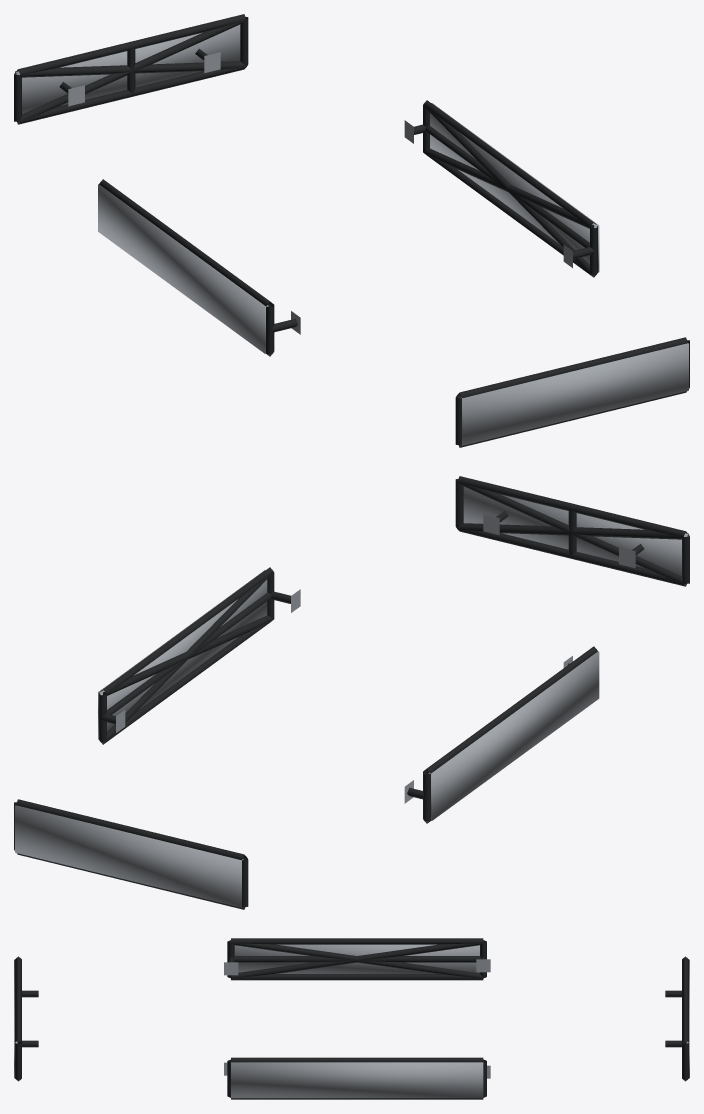
Rendered from rauhe_asfalto_protecao.glb.
The picture shows the model from 3 angles, top to bottom: view 1: azimuth 30°, elevation 25°; view 2: azimuth 150°, elevation 25°; view 3: azimuth 270°, elevation 25°; orthographic projection. The views are drawn at different scales.
Parts seen in each view (by area): view 1: Protection_front_Level3_Details, Protection_left_Level3_Details, Protection_rear_Level1_Details, Protection_rear_Level3_Details, Protection_right_Level1_Details, Protection_right_Level2_Details, Protection_rear_Level2_Details, Protection_right_Level3_Details, Protection_front_Level1_Details, Protection_left_Level1_Details; view 2: Protection_rear_Level3_Details, Protection_left_Level3_Details, Protection_front_Level1_Details, Protection_front_Level3_Details, Protection_right_Level1_Details, Protection_right_Level2_Details, Protection_front_Level2_Details, Protection_right_Level3_Details, Protection_rear_Level1_Details, Protection_left_Level1_Details; view 3: Protection_right_Level3_Details, Protection_left_Level2_Details, Protection_left_Level1_Details, Protection_left_Level3_Details, Protection_right_Level1_Details, Protection_rear_Level1_Details, Protection_front_Level1_Details.
Part boxes in pixels (<box>): Protection_front_Level3_Details: <box>460,343,688,445</box>; Protection_left_Level3_Details: <box>98,184,268,353</box>; Protection_rear_Level1_Details: <box>14,14,248,124</box>; Protection_rear_Level3_Details: <box>15,24,240,114</box>; Protection_right_Level1_Details: <box>404,100,597,277</box>; Protection_right_Level2_Details: <box>423,105,596,277</box>; Protection_rear_Level2_Details: <box>16,20,246,123</box>; Protection_right_Level3_Details: <box>430,103,599,272</box>; Protection_front_Level1_Details: <box>455,337,689,447</box>; Protection_left_Level1_Details: <box>99,179,300,356</box>; Protection_rear_Level3_Details: <box>15,805,243,907</box>; Protection_left_Level3_Details: <box>428,651,599,820</box>; Protection_front_Level1_Details: <box>455,476,689,586</box>; Protection_front_Level3_Details: <box>463,486,688,576</box>; Protection_right_Level1_Details: <box>99,567,300,744</box>; Protection_right_Level2_Details: <box>100,573,273,744</box>; Protection_front_Level2_Details: <box>457,482,687,585</box>; Protection_right_Level3_Details: <box>98,570,267,739</box>; Protection_rear_Level1_Details: <box>14,799,248,909</box>; Protection_left_Level1_Details: <box>404,646,597,823</box>; Protection_right_Level3_Details: <box>231,1062,483,1098</box>; Protection_left_Level2_Details: <box>230,941,483,978</box>; Protection_left_Level1_Details: <box>224,938,490,980</box>; Protection_left_Level3_Details: <box>234,944,479,973</box>; Protection_right_Level1_Details: <box>224,1057,490,1099</box>; Protection_rear_Level1_Details: <box>665,956,688,1081</box>; Protection_front_Level1_Details: <box>15,956,38,1081</box>.
Size of the model in its own units: 2.23 by 0.354 by 5.17.
Materials: 1 (1 with a texture image).
